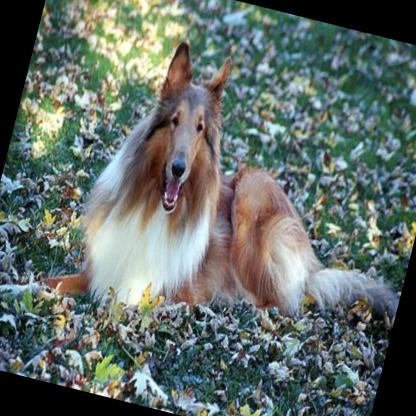collie: (0, 12, 416, 387)
